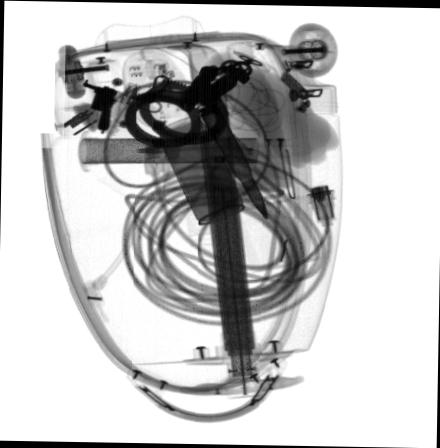Bullet: (197, 101, 268, 220)
Gun: (79, 81, 116, 132)
HandCuffs: (122, 57, 251, 149)
